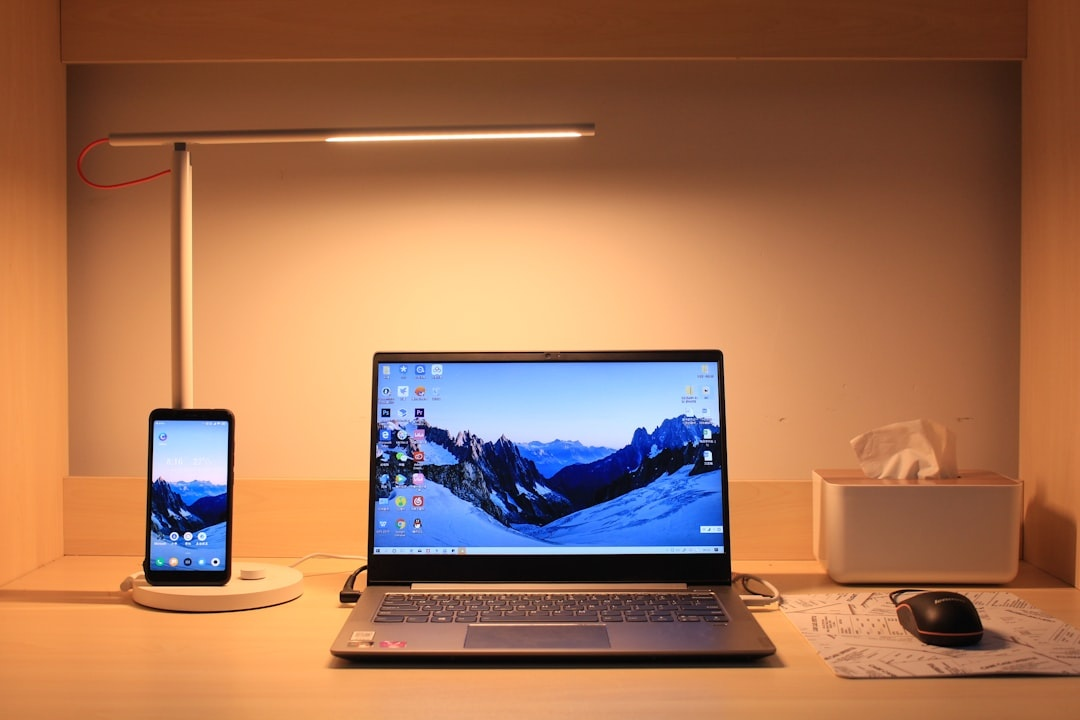laptop: (327, 326, 791, 689)
